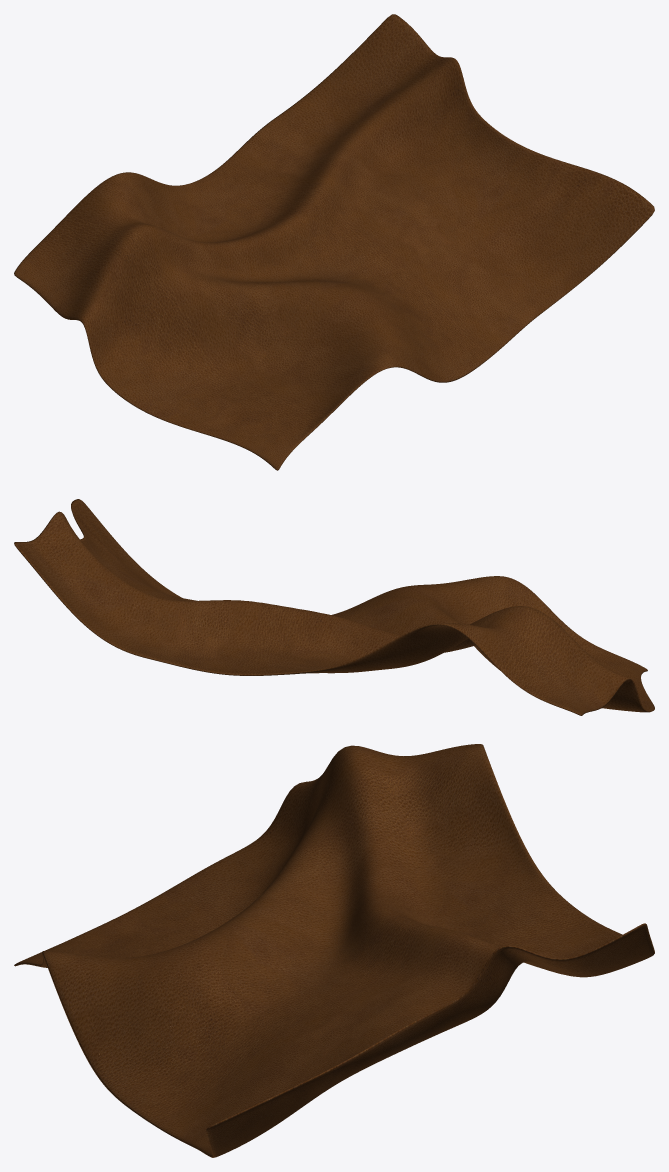
The model's file is cuero_caprino_v002_candidate.glb.
3 views of the same model, one above another, from view 1: azimuth 30°, elevation 25°; view 2: azimuth 150°, elevation 25°; view 3: azimuth 270°, elevation 25° (orthographic). The views are drawn at different scales.
Visible parts, largest first — view 1: Vegetable tanned caprino naturally folded hide; view 2: Vegetable tanned caprino naturally folded hide; view 3: Vegetable tanned caprino naturally folded hide.
Part boxes in pixels (box(x1,y1,x2,y2)): Vegetable tanned caprino naturally folded hide: box(14, 14, 654, 470); Vegetable tanned caprino naturally folded hide: box(14, 499, 654, 715); Vegetable tanned caprino naturally folded hide: box(14, 744, 654, 1157).
Size of the model in its own units: 0.5428 by 0.1899 by 0.4042.
Materials: 1 (1 with a texture image).
